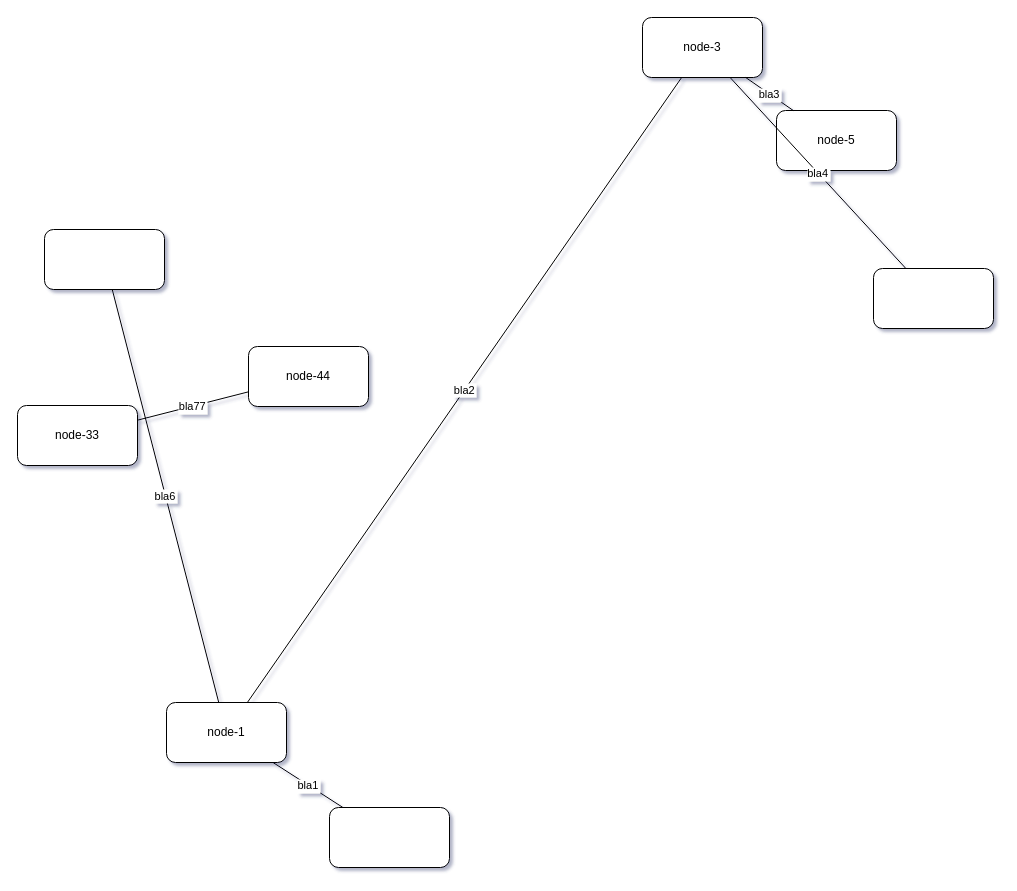
Some shapes in this 1017 by 891 pixel diagram are drawn without their labels. Here are the shapes that lost their labels. From the top down, the centre of each, then its label:
(104,259): node-6
(933,298): node-4
(389,837): node-2
